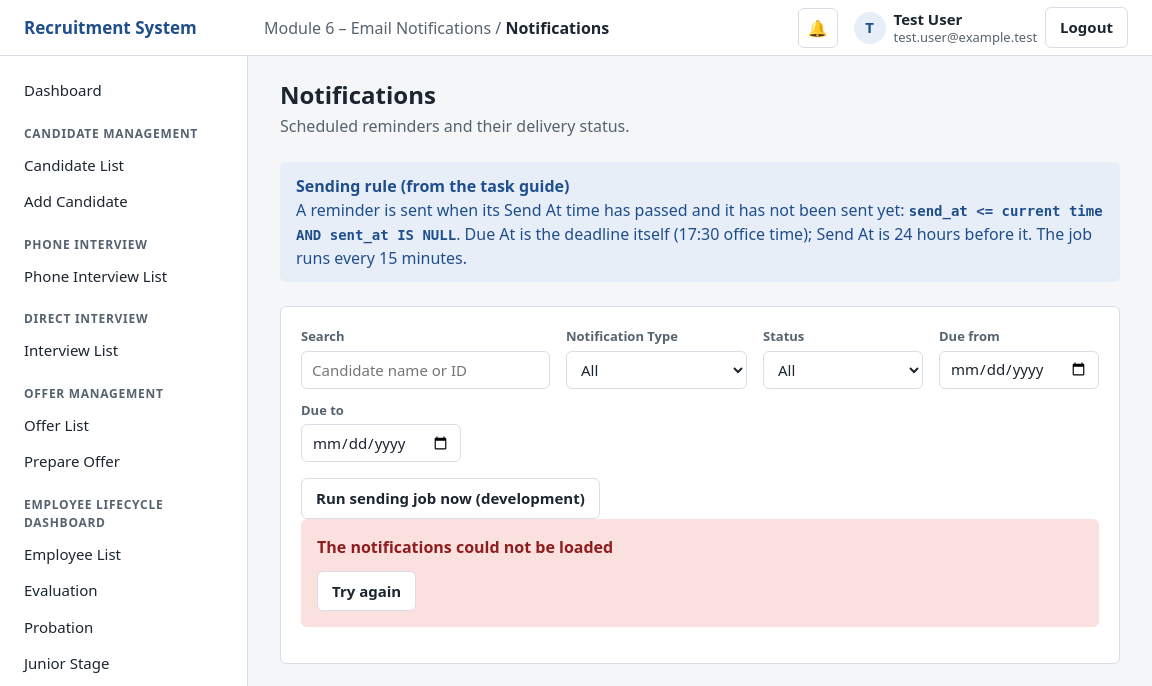
Test: notifications list › shows an error when the backend fails, and Try again recovers
Expected: the text "The notifications could not be loaded" is shown, top-left (317, 536), bottom-right (613, 558)
Click the button "Try again" at (367, 591), box top-left (317, 570), bottom-right (416, 611)
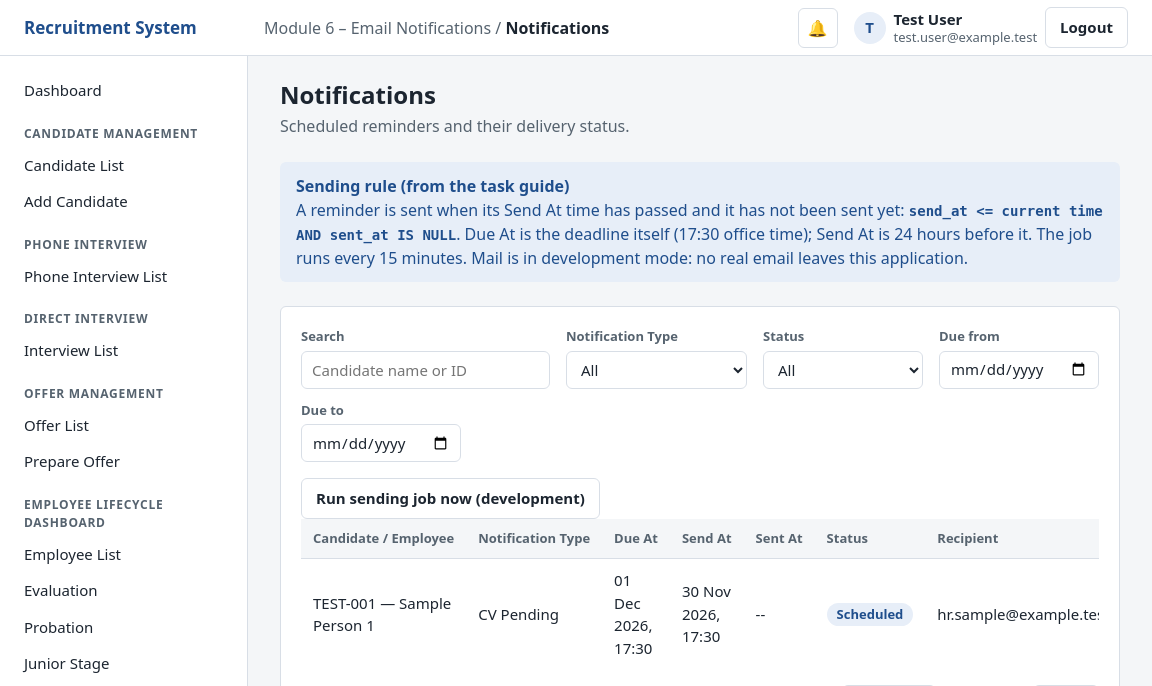
Result: the text "TEST-001 — Sample Person 1" is shown at top-left (301, 559), bottom-right (466, 669)
